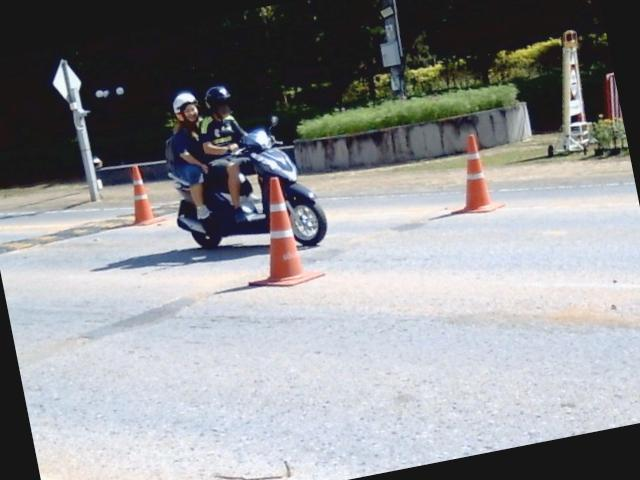helmet: (172, 91, 200, 122), (205, 86, 229, 113)
motor: (167, 127, 326, 247)
person: (198, 86, 250, 221), (165, 91, 208, 217)
